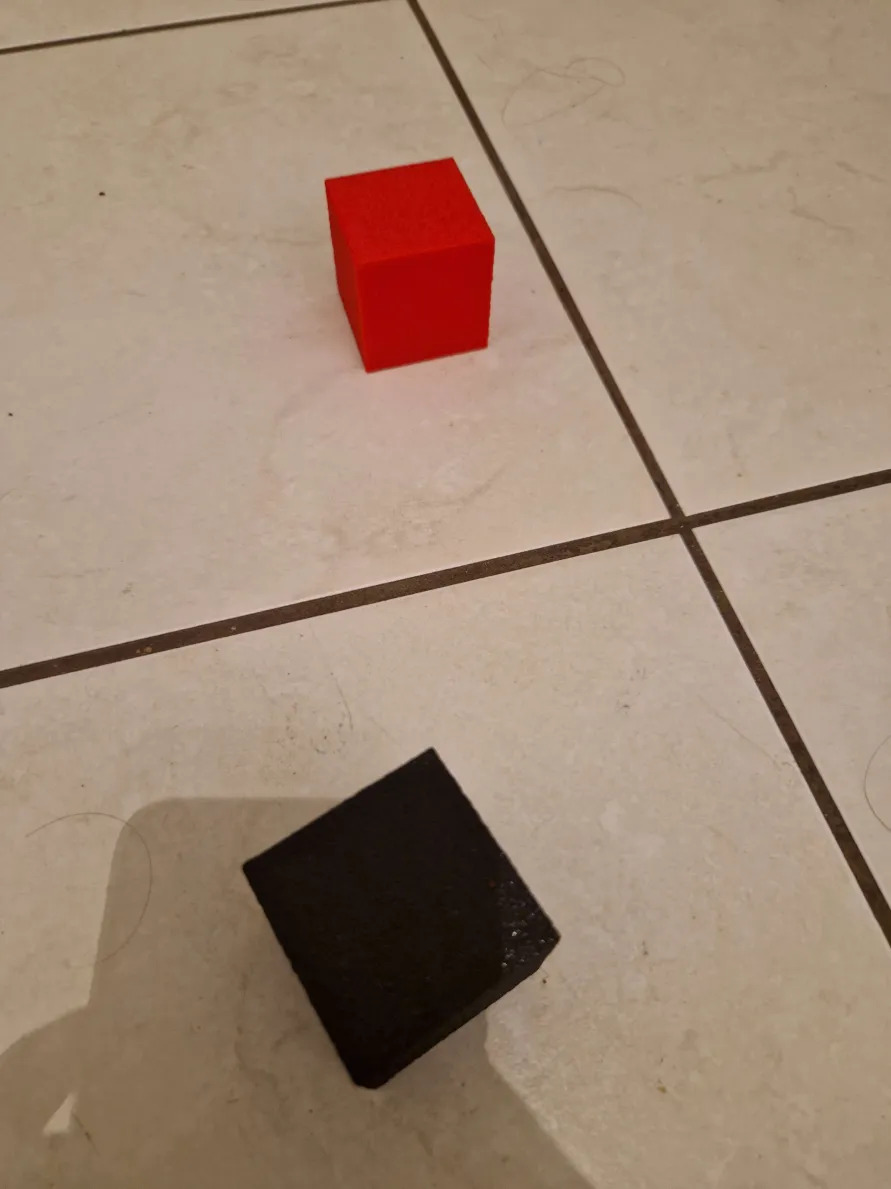cube_rouge: (318, 150, 497, 375)
